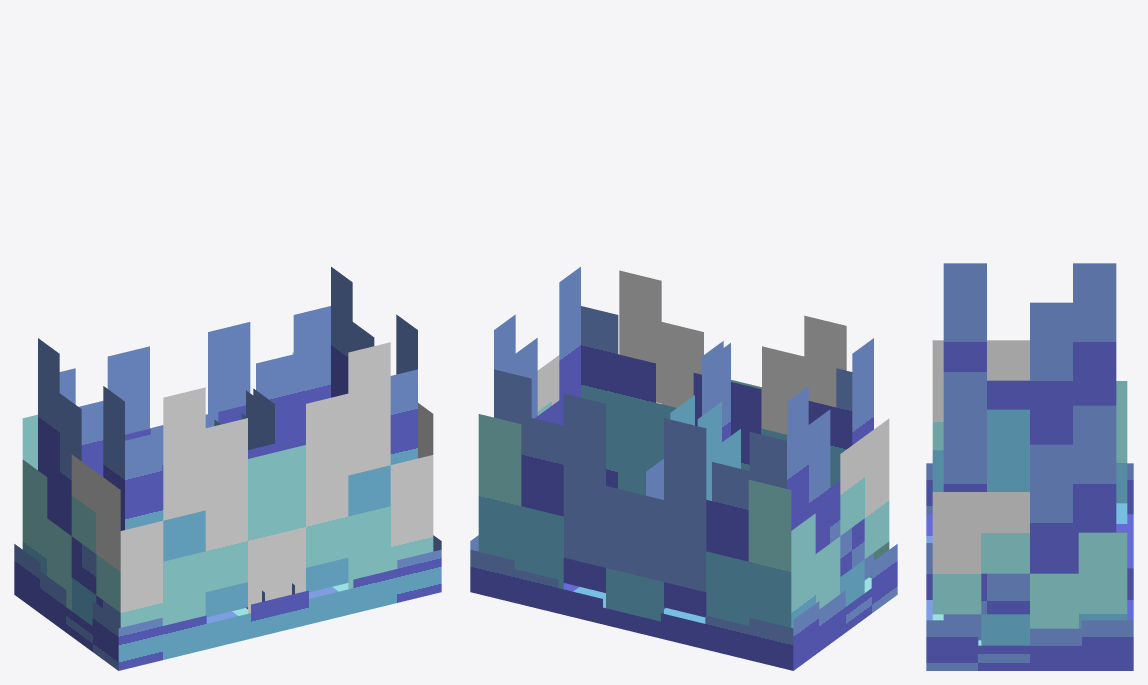
Rendered from sl_ice_shoes.glb.
3 views of the same model, side by side, from view 1: azimuth 30°, elevation 25°; view 2: azimuth 150°, elevation 25°; view 3: azimuth 270°, elevation 25° (orthographic).
Parts seen in each view (by area): view 1: bb_ice_shoes; view 2: bb_ice_shoes; view 3: bb_ice_shoes.
Boxes of the visible parts, x1,y1,x2,y2 form: bb_ice_shoes: (14, 267, 441, 670); bb_ice_shoes: (470, 267, 897, 670); bb_ice_shoes: (926, 263, 1133, 670).
Bounding box in the file's own units: 0.5375 × 0.8038 × 0.3.
1 material, 1 textured.
